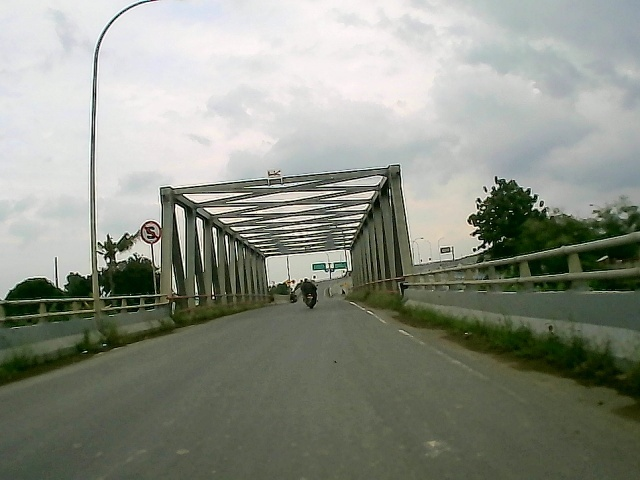Dilarang berhenti: (137, 219, 164, 246)
